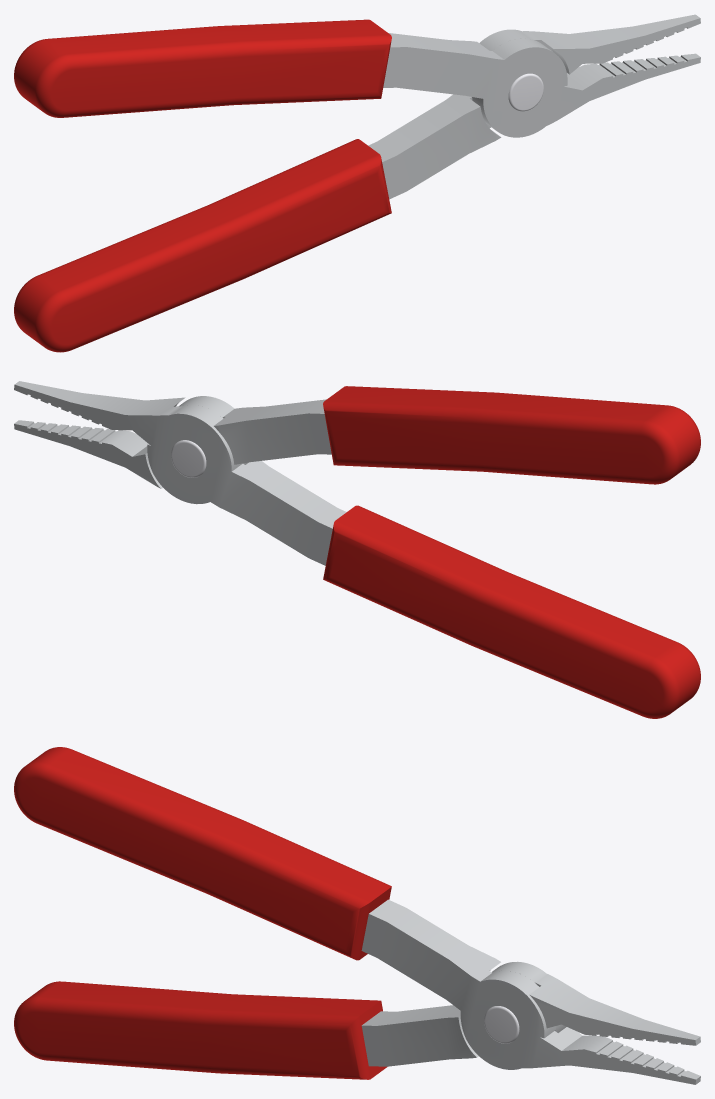
Rendered from pliers.glb.
3 renders of one model, top to bottom at view 1: azimuth 30°, elevation 25°; view 2: azimuth 150°, elevation 25°; view 3: azimuth 330°, elevation 25°, orthographic.
Parts seen in each view (by area): view 1: pliers_red_handle, pliers_steel, pliers_chrome; view 2: pliers_red_handle, pliers_steel, pliers_chrome; view 3: pliers_red_handle, pliers_steel, pliers_chrome.
Boxes of the visible parts, x1,y1,x2,y2 form: pliers_red_handle: [14, 19, 391, 352]; pliers_steel: [368, 14, 700, 199]; pliers_chrome: [508, 73, 543, 111]; pliers_red_handle: [323, 386, 700, 718]; pliers_steel: [14, 381, 346, 565]; pliers_chrome: [171, 440, 206, 477]; pliers_red_handle: [14, 747, 391, 1079]; pliers_steel: [361, 899, 700, 1084]; pliers_chrome: [484, 1006, 519, 1043].
Size of the model in its own units: 0.1599 by 0.0672 by 0.013.
